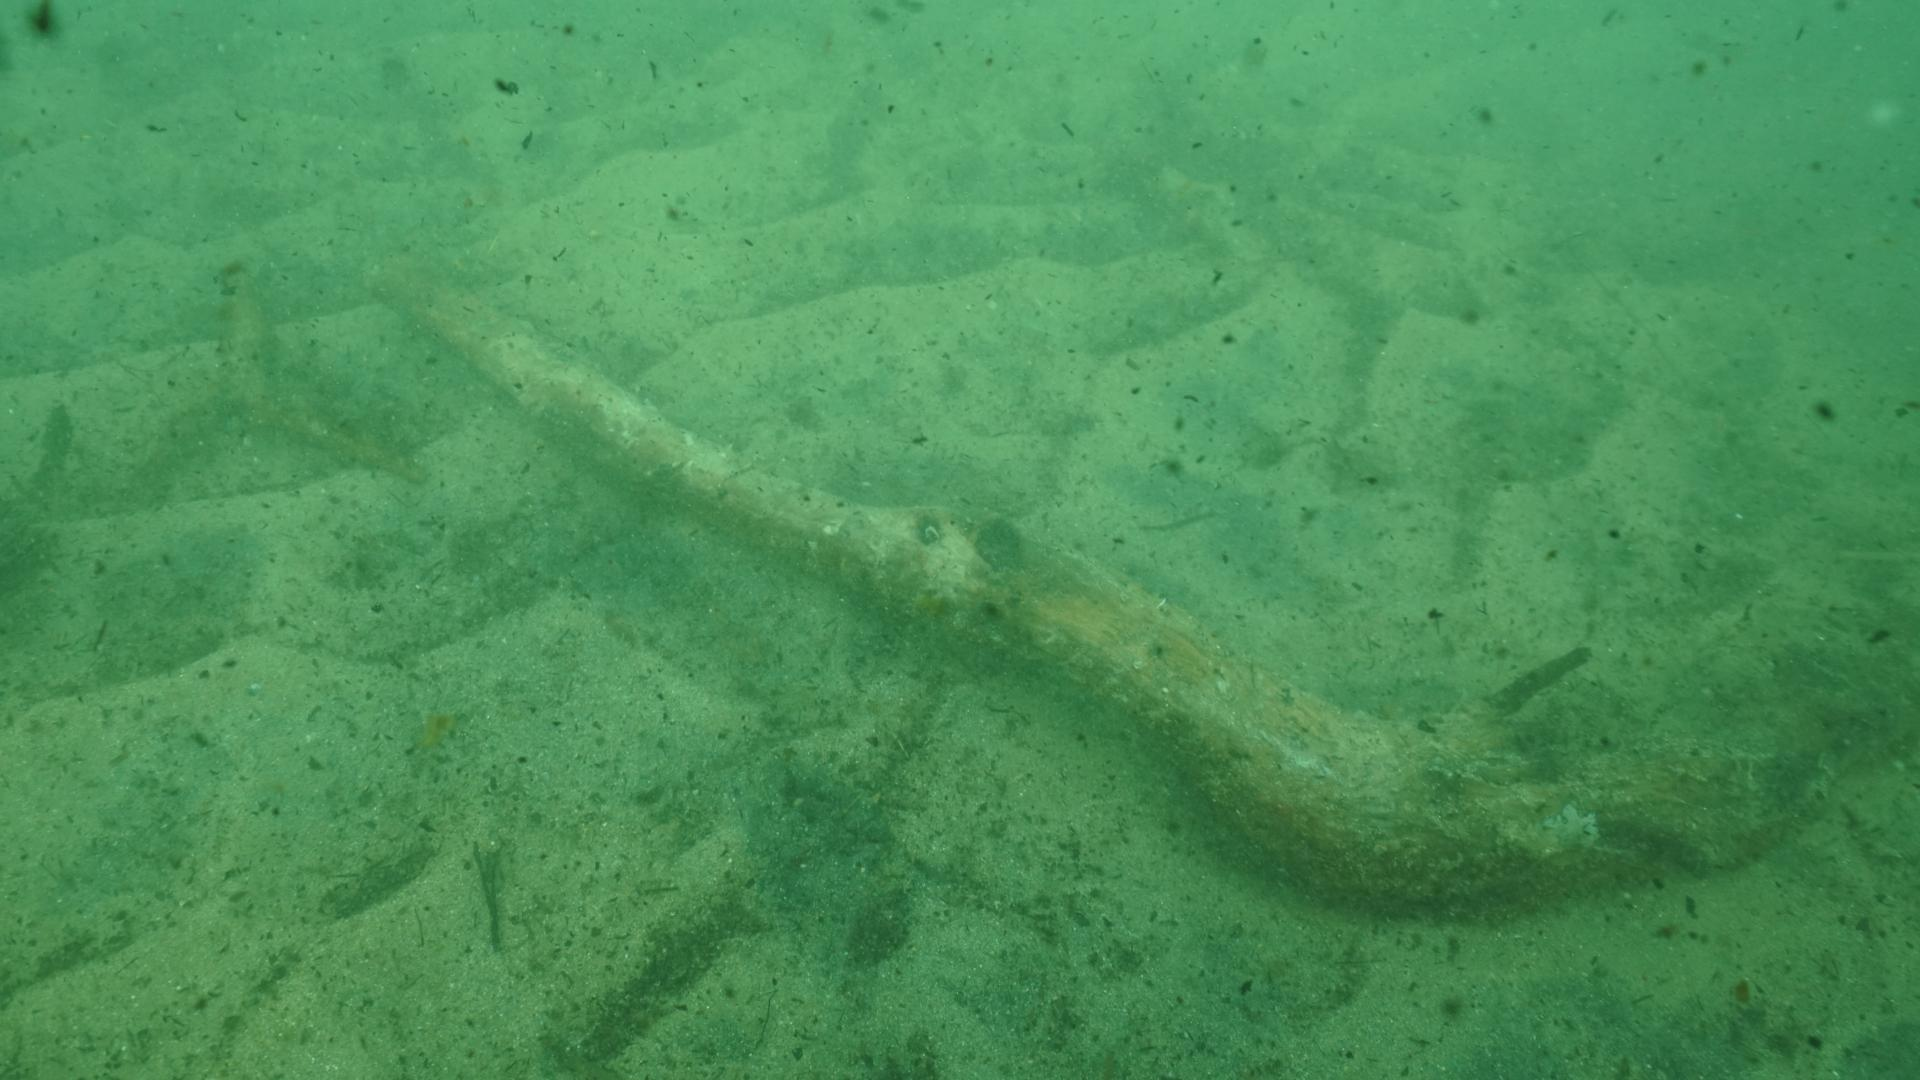wood: (382, 269, 1833, 909)
